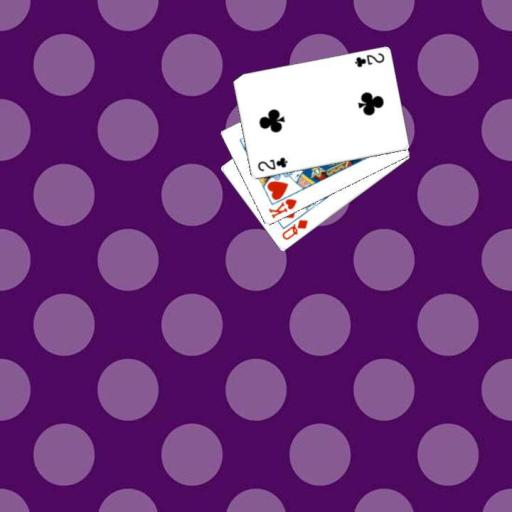2C: (254, 154, 289, 173), (352, 50, 386, 69)
KH: (265, 196, 298, 221)
QD: (279, 216, 309, 242)
